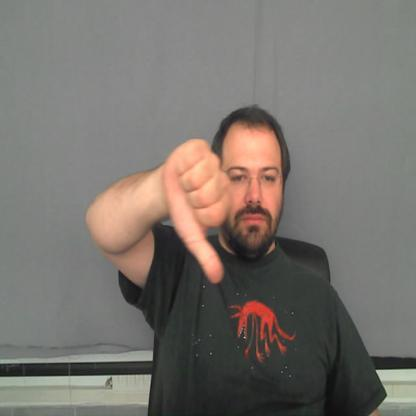thumbs-down: (160, 140, 240, 286)
